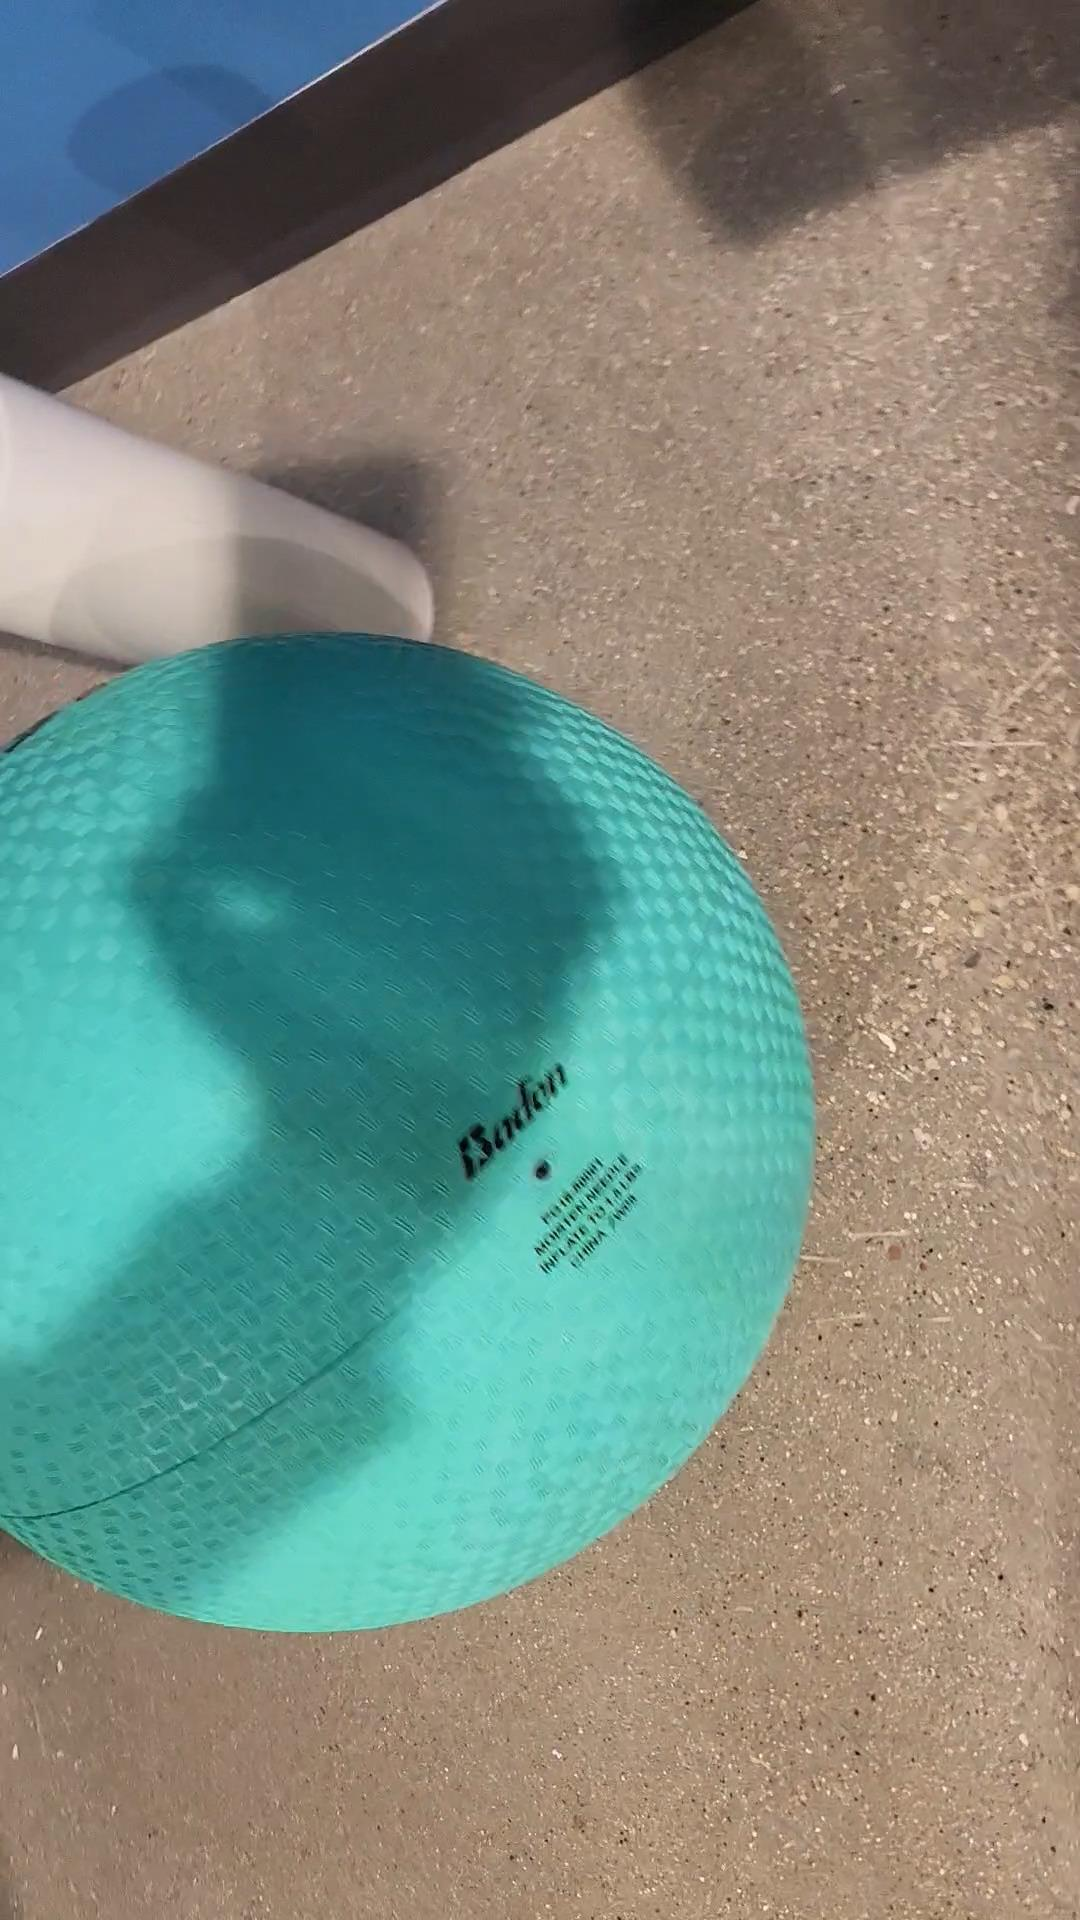algae: (0, 634, 836, 1643)
coral: (0, 357, 447, 696)
